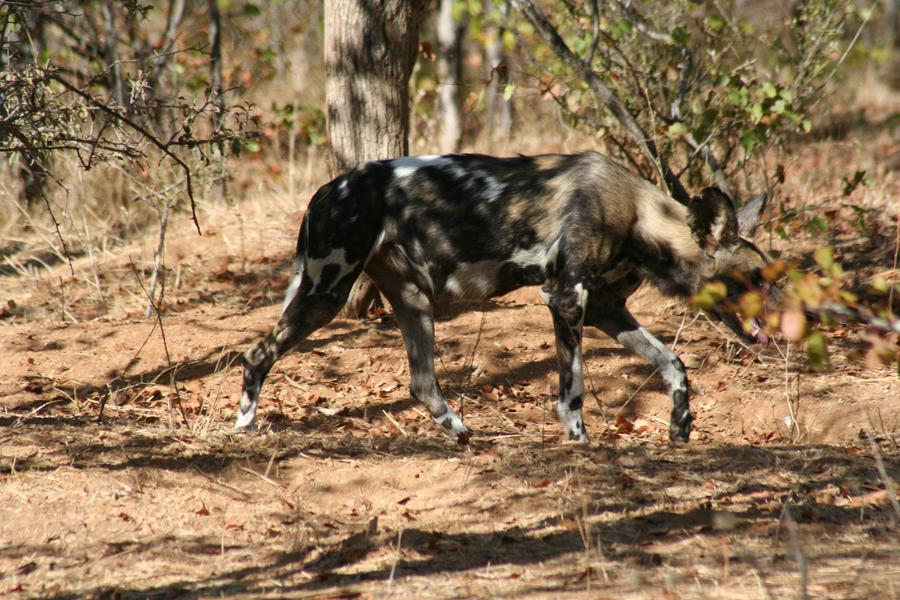wilddog: (279, 171, 785, 341)
